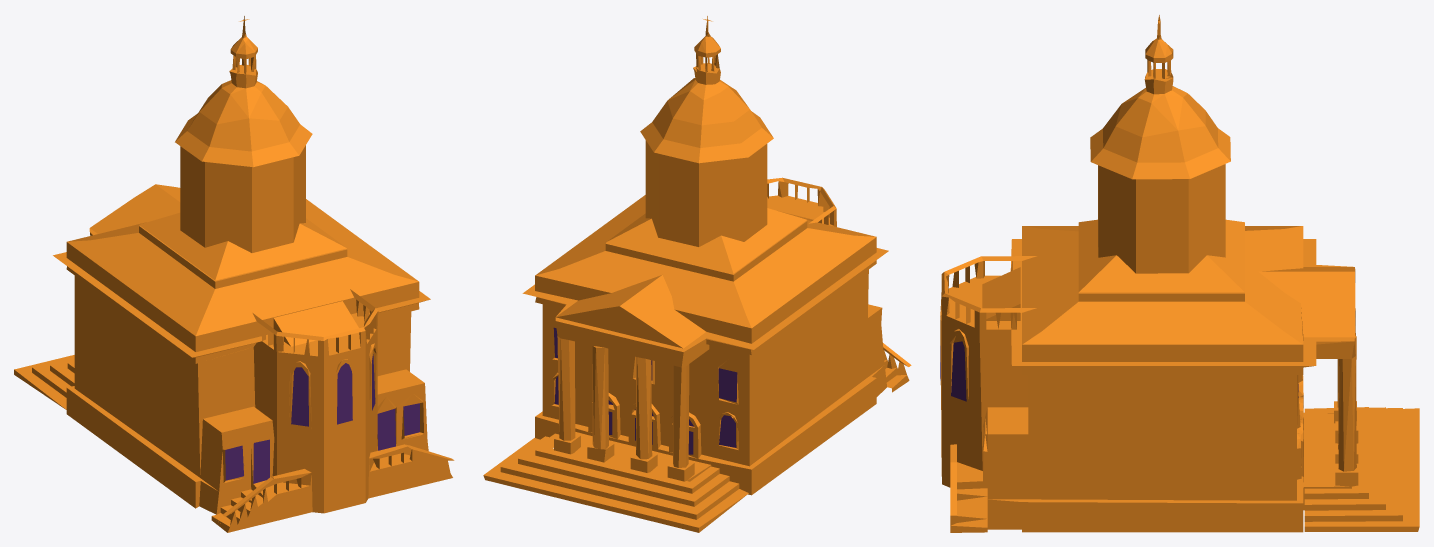
File: GarnizownowyV2.fbx
3 views of the same model, side by side, from view 1: azimuth 30°, elevation 25°; view 2: azimuth 150°, elevation 25°; view 3: azimuth 270°, elevation 25° (orthographic). The views are drawn at different scales.
Visible parts, largest first — view 1: Garnizonowy_obj_0; view 2: Garnizonowy_obj_0; view 3: Garnizonowy_obj_0.
Part boxes in pixels (x1,y1,x2,y2): Garnizonowy_obj_0: [14, 16, 454, 532]; Garnizonowy_obj_0: [483, 16, 911, 532]; Garnizonowy_obj_0: [940, 15, 1419, 532].
Bounding box in the file's own units: 26.75 × 45.08 × 42.69.
Materials: 1 (1 with a texture image).
